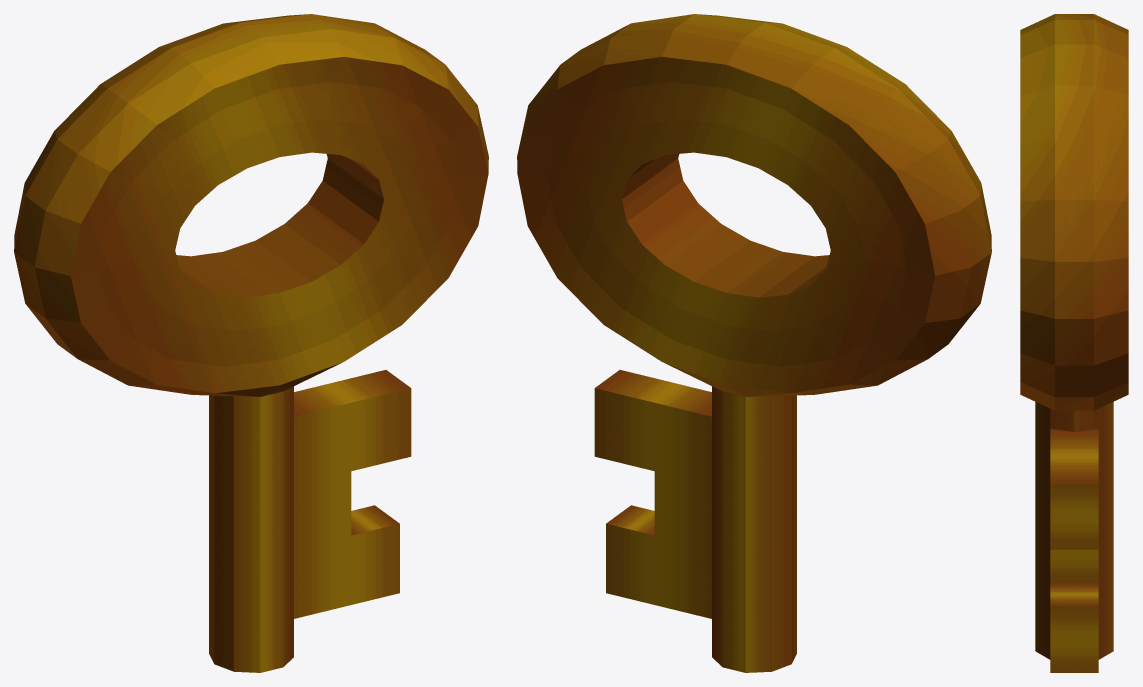
The model's file is KeySwitch.dae.
The picture shows the model from 3 angles, left to right: view 1: azimuth 30°, elevation 25°; view 2: azimuth 150°, elevation 25°; view 3: azimuth 270°, elevation 25°; orthographic projection. The views are drawn at different scales.
Parts seen in each view (by area): view 1: m0; view 2: m0; view 3: m0.
Boxes of the visible parts, x1=… form: m0: x1=14, y1=14, x2=488, y2=672; m0: x1=517, y1=14, x2=991, y2=672; m0: x1=1020, y1=14, x2=1128, y2=672.
Bounding box in the file's own units: 162 × 213 × 34.77.
Materials: 1 (1 with a texture image).
